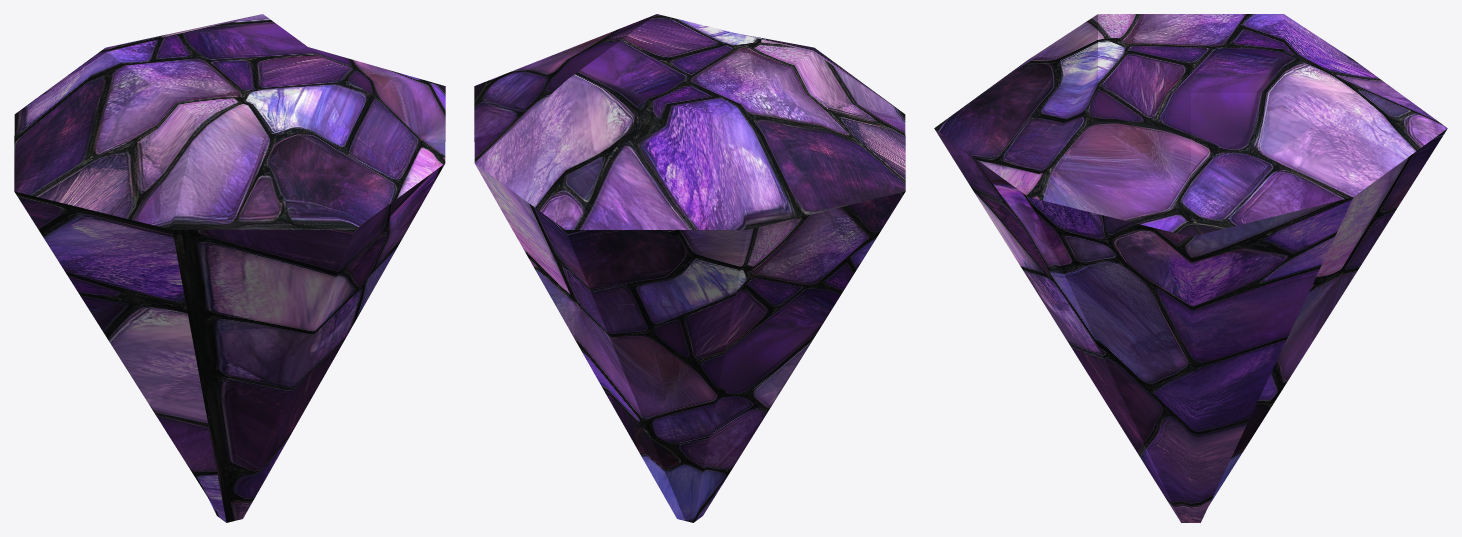
File: gemstone3Purple.glb
3 views of the same model, side by side, from view 1: azimuth 30°, elevation 25°; view 2: azimuth 150°, elevation 25°; view 3: azimuth 270°, elevation 25° (orthographic). The views are drawn at different scales.
Parts seen in each view (by area): view 1: gemstone2; view 2: gemstone2; view 3: gemstone2.
Boxes of the visible parts, <box> form: gemstone2: <box>14,14,445,522</box>; gemstone2: <box>474,14,905,522</box>; gemstone2: <box>934,14,1447,522</box>.
Size of the model in its own units: 1 by 1 by 1.
Materials: 1 (1 with a texture image).
